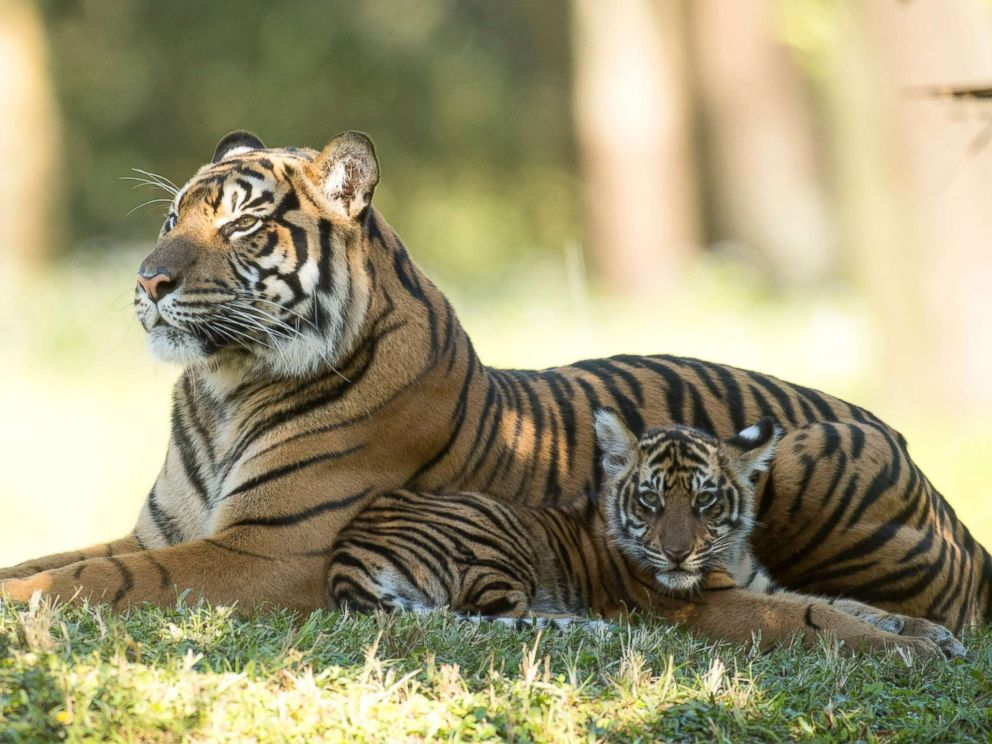Tiger: (68, 90, 992, 677)
